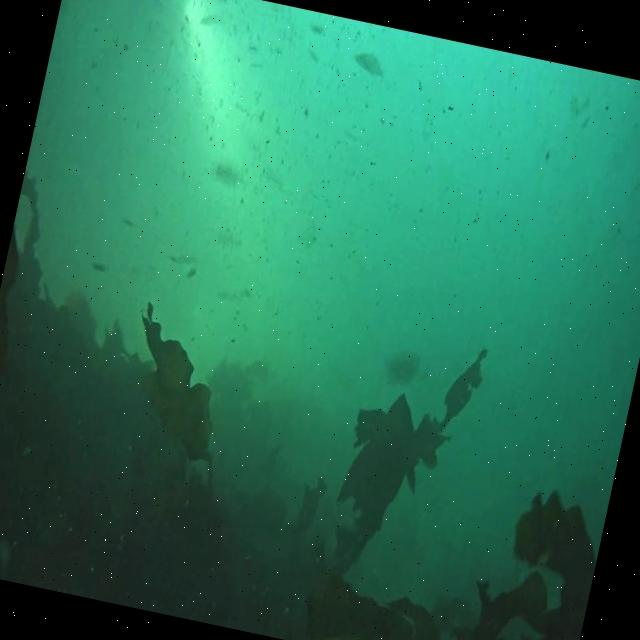fish: (350, 49, 388, 81)
